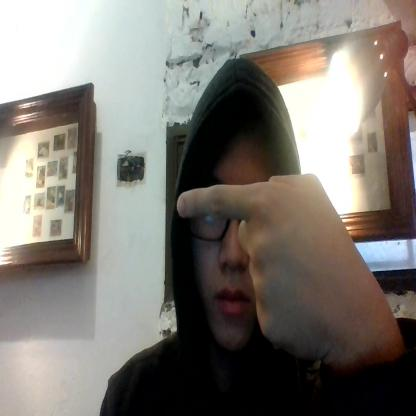right: (174, 172, 350, 358)
